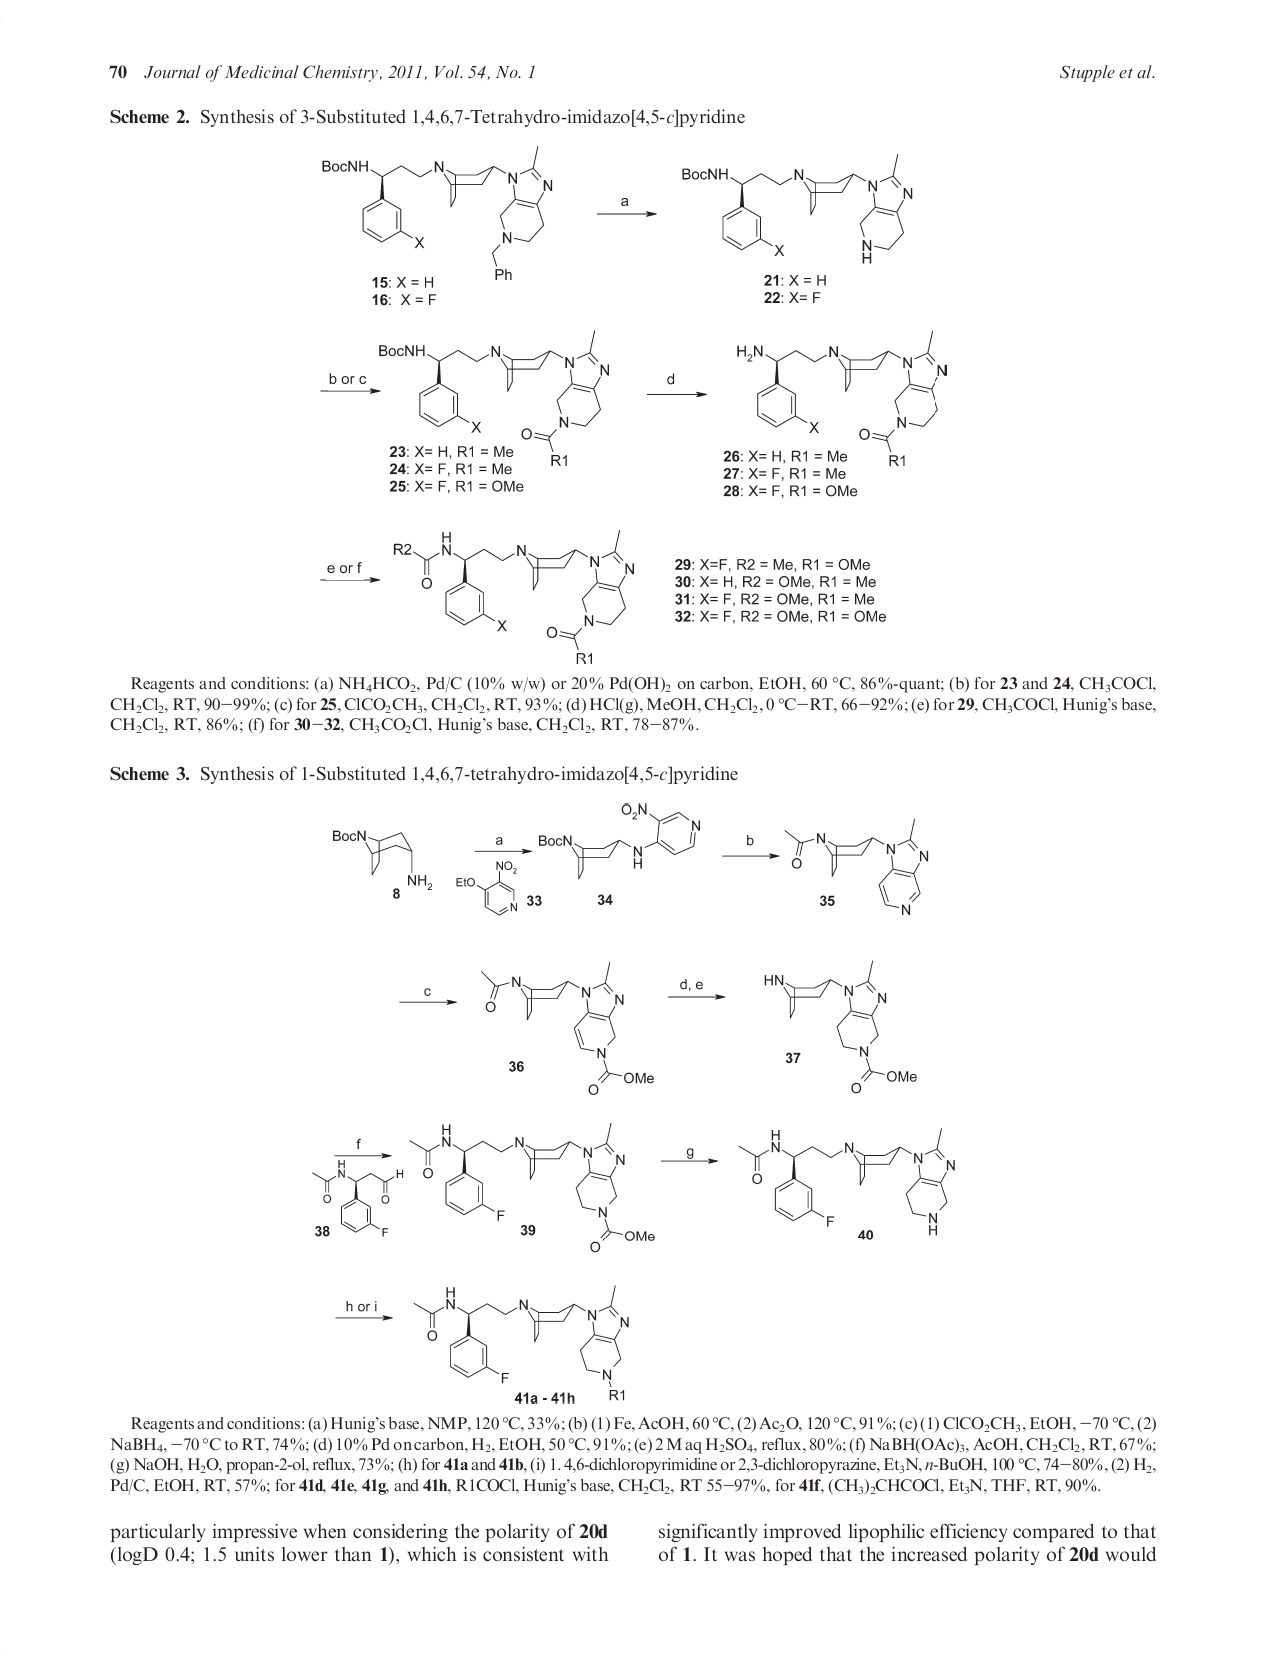exist_molecular: (390, 527, 636, 668), (406, 1121, 656, 1254), (320, 145, 559, 282), (376, 328, 613, 465), (733, 328, 949, 468), (410, 1282, 630, 1404), (678, 153, 918, 265), (735, 1126, 957, 1239), (477, 958, 656, 1097), (761, 959, 919, 1093), (781, 817, 931, 918), (537, 799, 705, 880), (310, 1157, 404, 1239), (328, 825, 435, 896), (456, 856, 525, 916)
